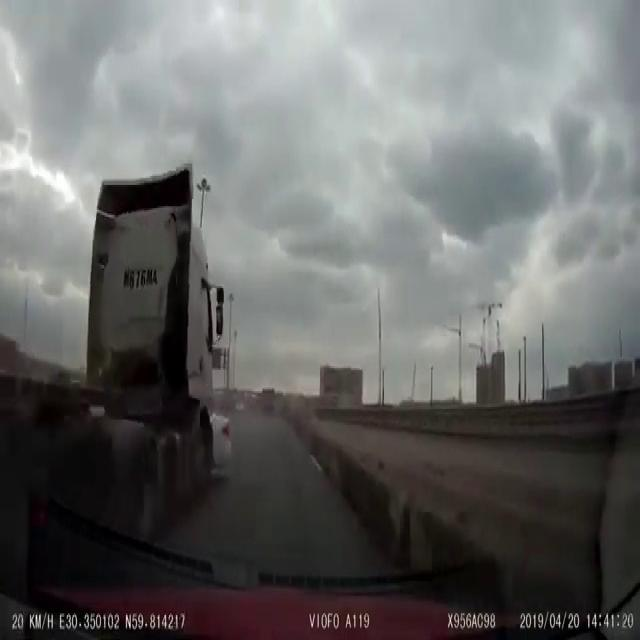severe: (0, 156, 238, 594)
